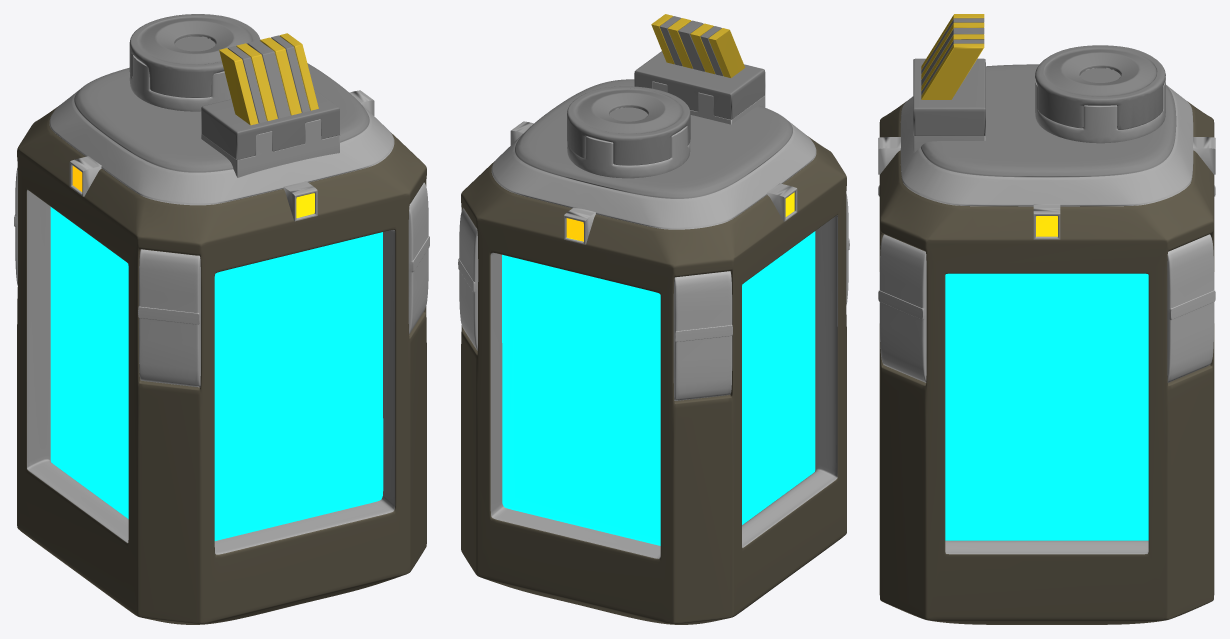
Rendered from robert.glb.
3 views of the same model, side by side, from view 1: azimuth 30°, elevation 25°; view 2: azimuth 150°, elevation 25°; view 3: azimuth 270°, elevation 25° (orthographic). The views are drawn at different scales.
Parts seen in each view (by area): view 1: Cube.004; view 2: Cube.004; view 3: Cube.004.
Boxes of the visible parts, x1,y1,x2,y2 form: Cube.004: (14,14,429,624); Cube.004: (458,14,849,624); Cube.004: (878,14,1215,624).
Bounding box in the file's own units: 202 × 350 × 202.
